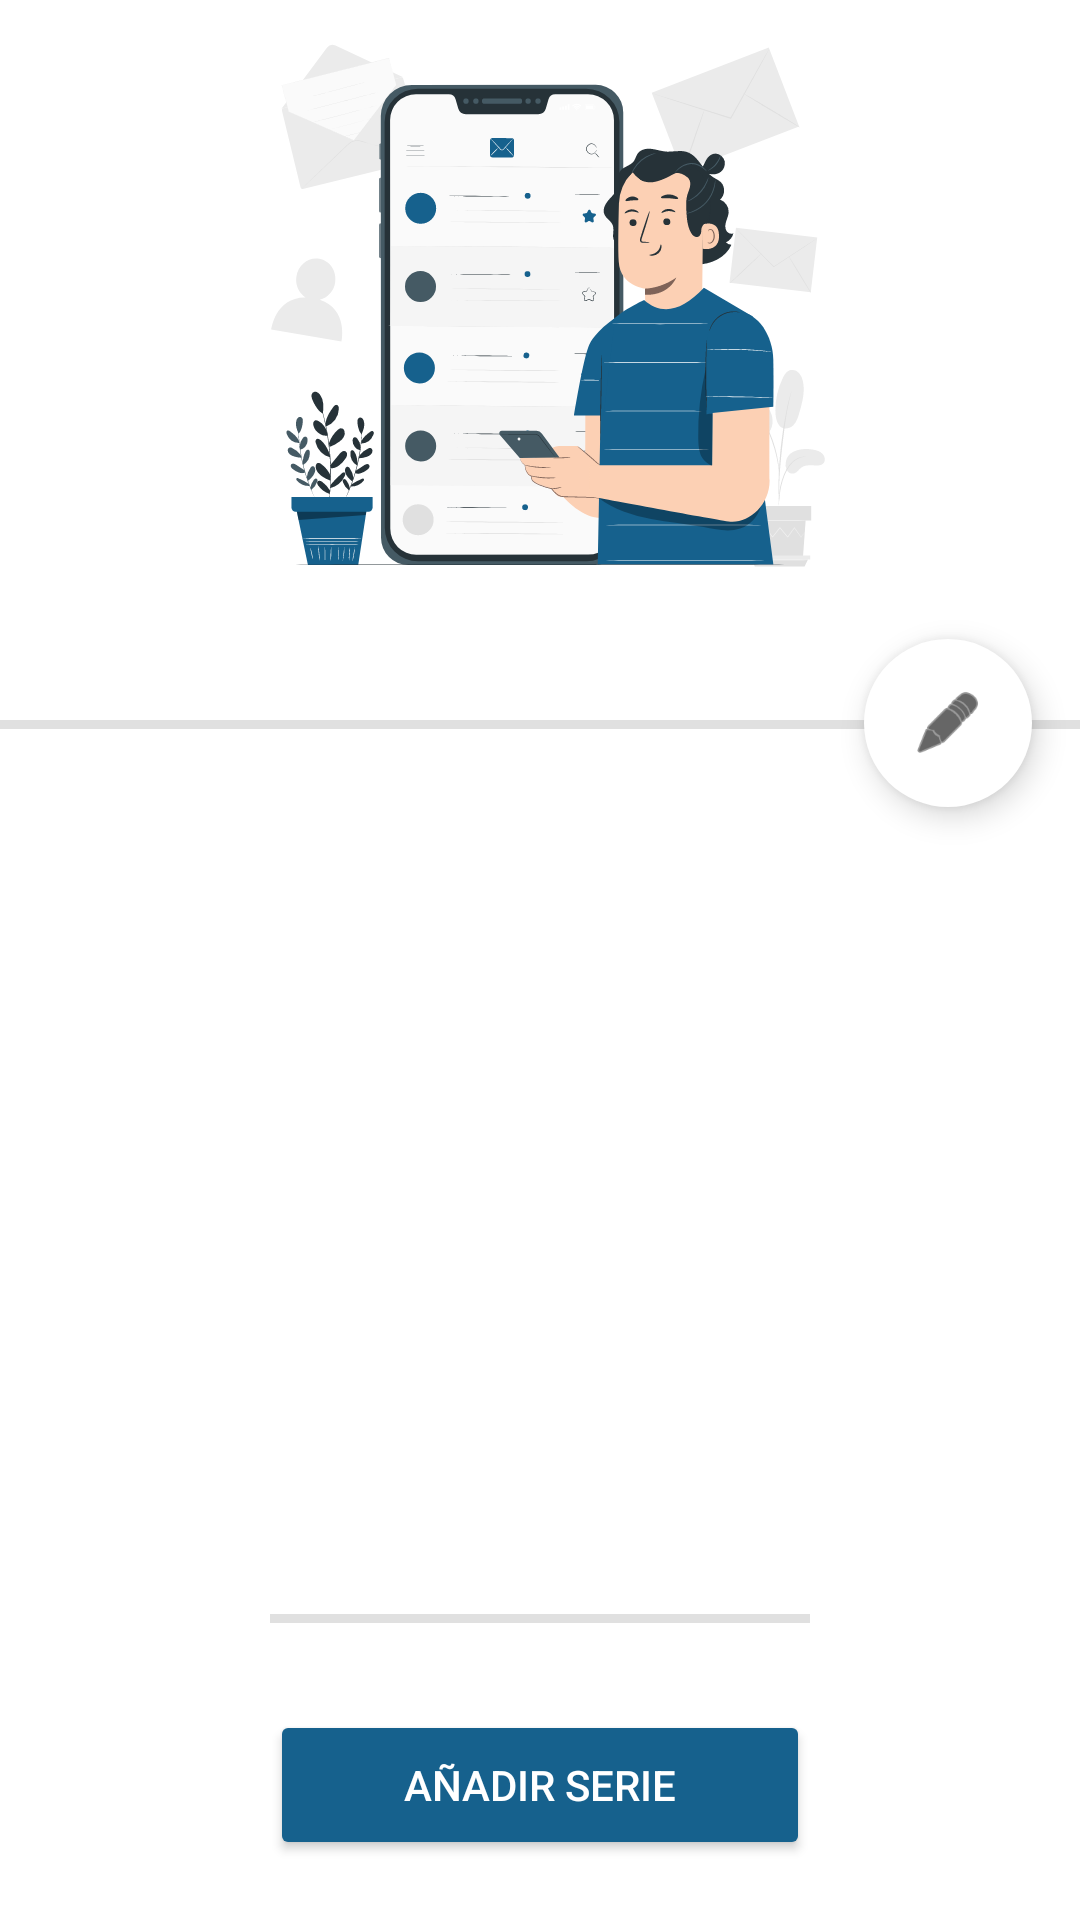

Icons on this 1080x1920 Android screen, each with its box as (x1, y1, x2, y2):
edit: (917, 692, 1031, 753)
